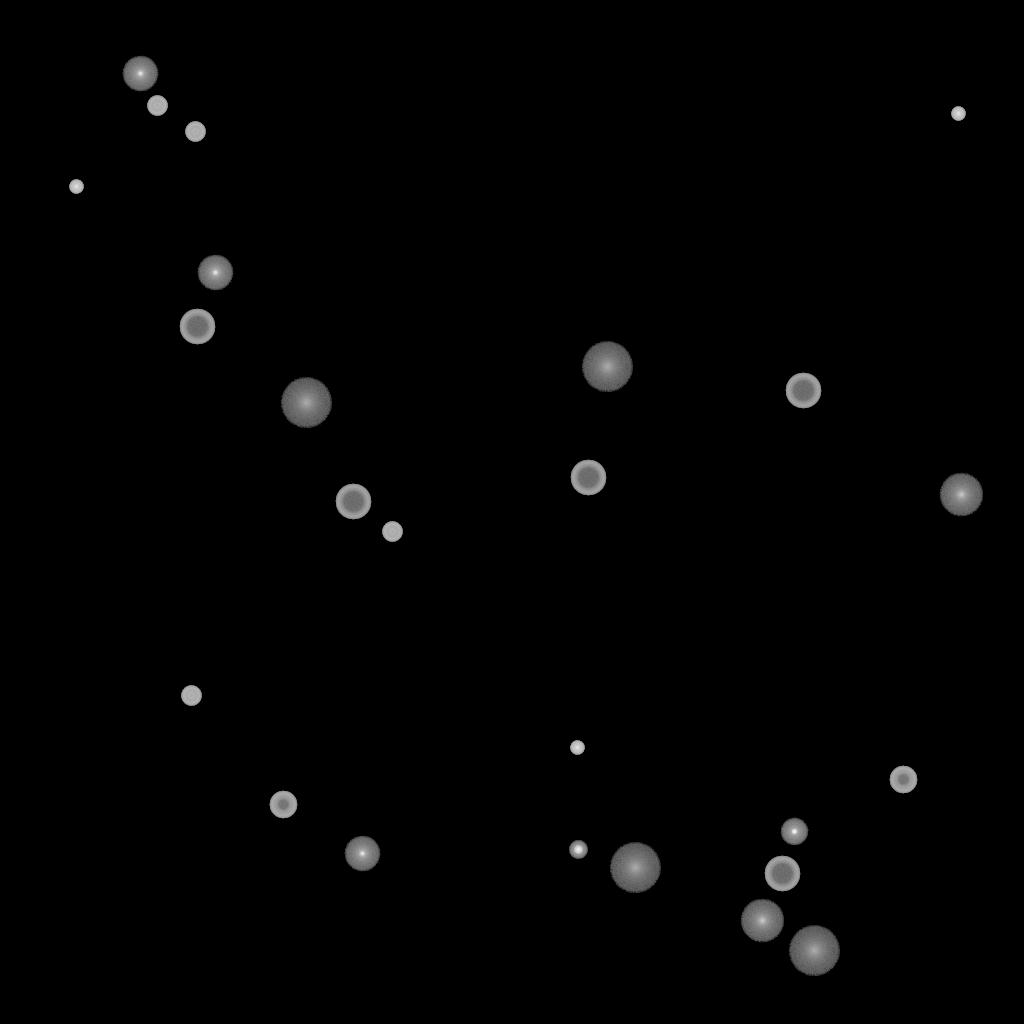depth:-10: (780, 818, 808, 846)
depth:-20: (569, 841, 587, 859)
depth:-30: (570, 741, 584, 755), (69, 180, 83, 194), (951, 107, 965, 121)
depth:-40: (181, 686, 201, 706), (382, 522, 402, 542), (147, 96, 167, 116), (185, 122, 205, 142)
depth:-50: (889, 766, 917, 794), (269, 791, 297, 819)
depth:-60: (764, 856, 800, 892), (785, 373, 821, 409), (570, 460, 606, 496), (335, 484, 371, 520), (179, 309, 215, 345)
depth:0: (122, 56, 158, 92), (197, 255, 233, 291), (344, 836, 380, 872)
depth:10: (740, 899, 784, 943), (939, 473, 983, 517)
depth:20: (581, 342, 633, 392), (788, 926, 840, 976), (609, 843, 661, 893), (280, 378, 332, 428)
